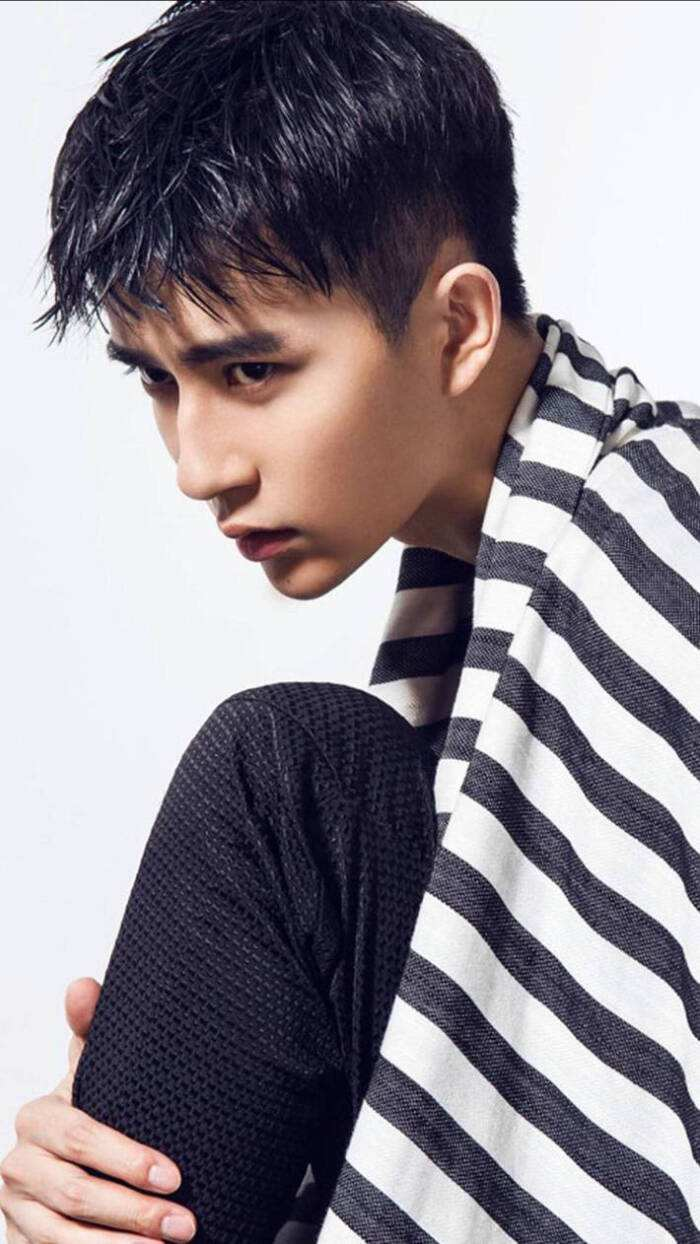person: (4, 27, 700, 1101)
